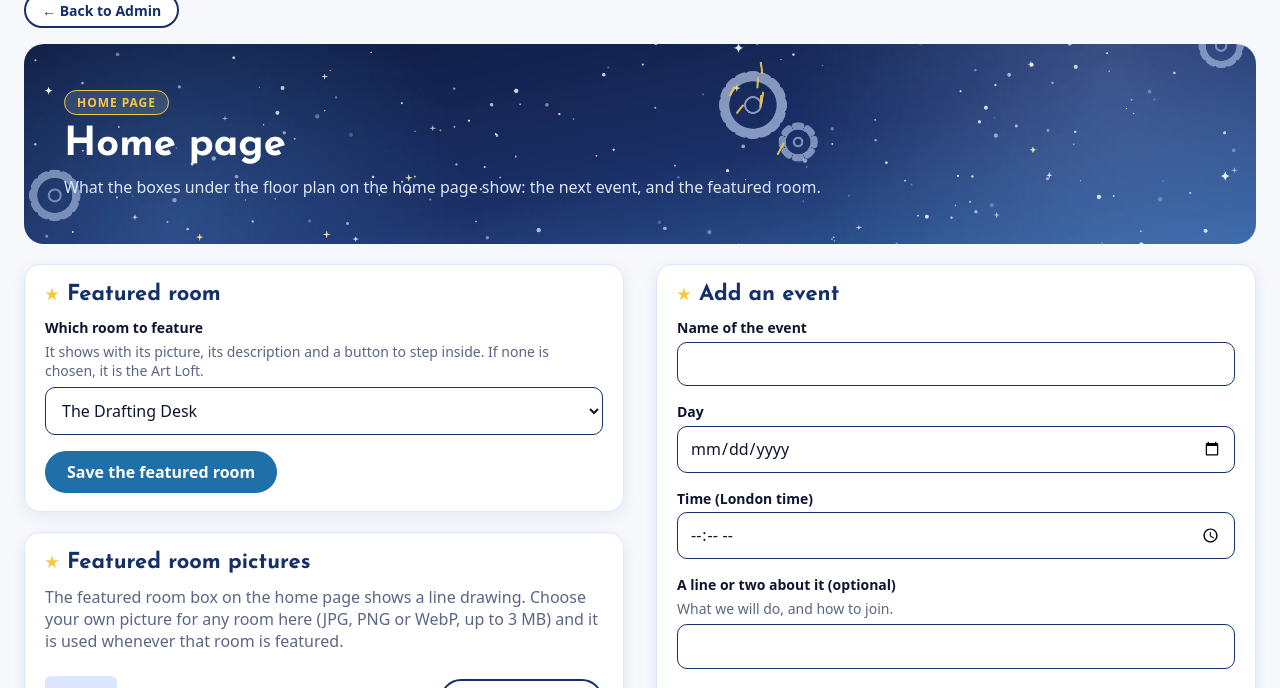
says plainly when the database refuses, and does not say it worked
In the field labelled "Name of the event": (956, 364) [677,342,1235,386], type "A"
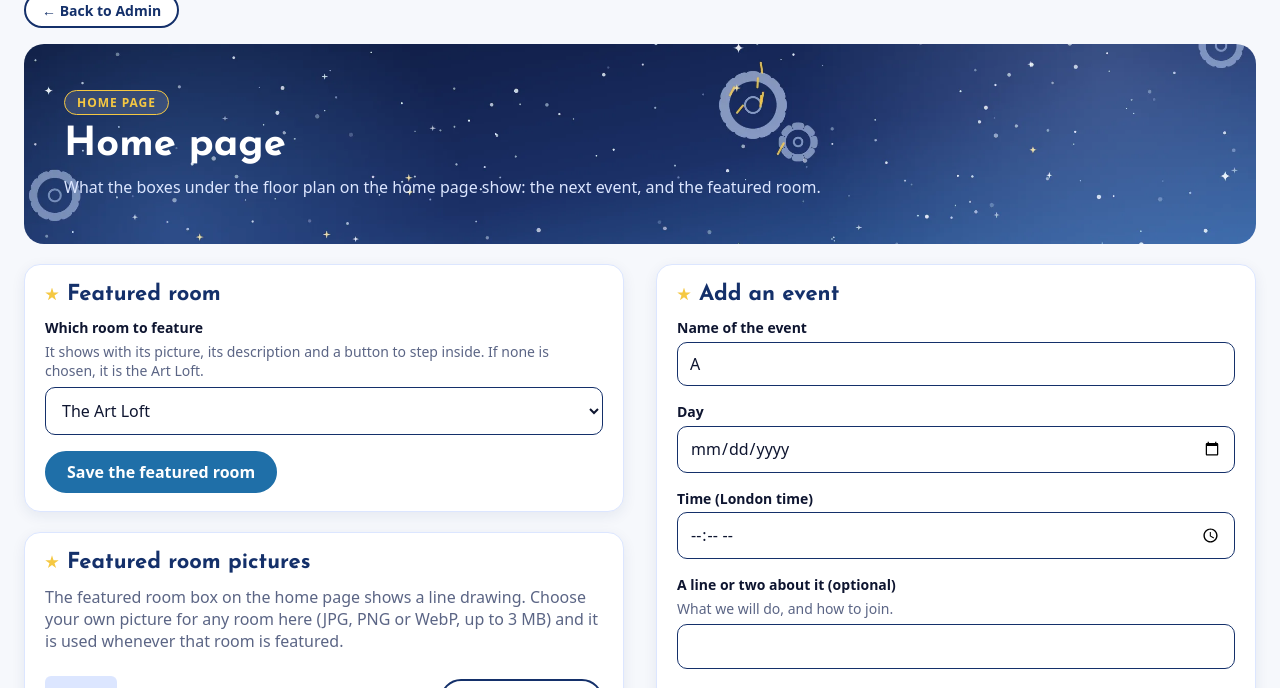
In the date field labelled "Day": (956, 449) [677,426,1235,473], type "2026-12-05"
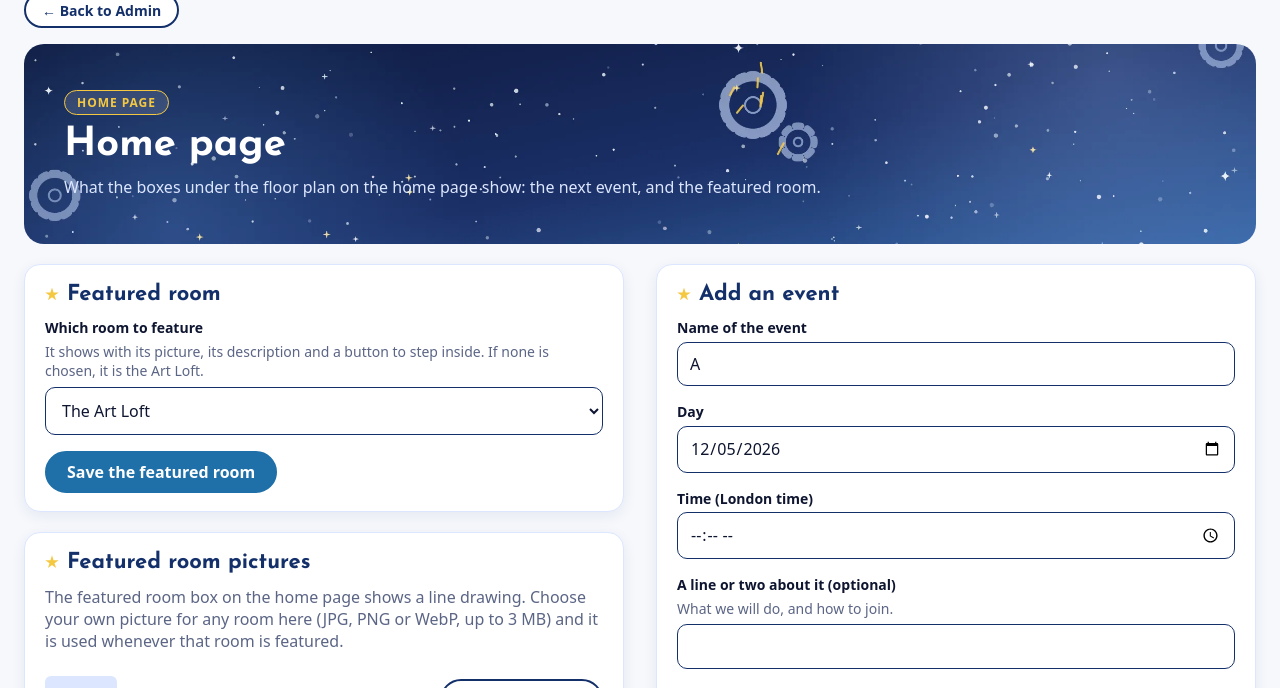
In the time field labelled "Time (London time)": (956, 536) [677,512,1235,559], type "19:00"
(page scrolled)
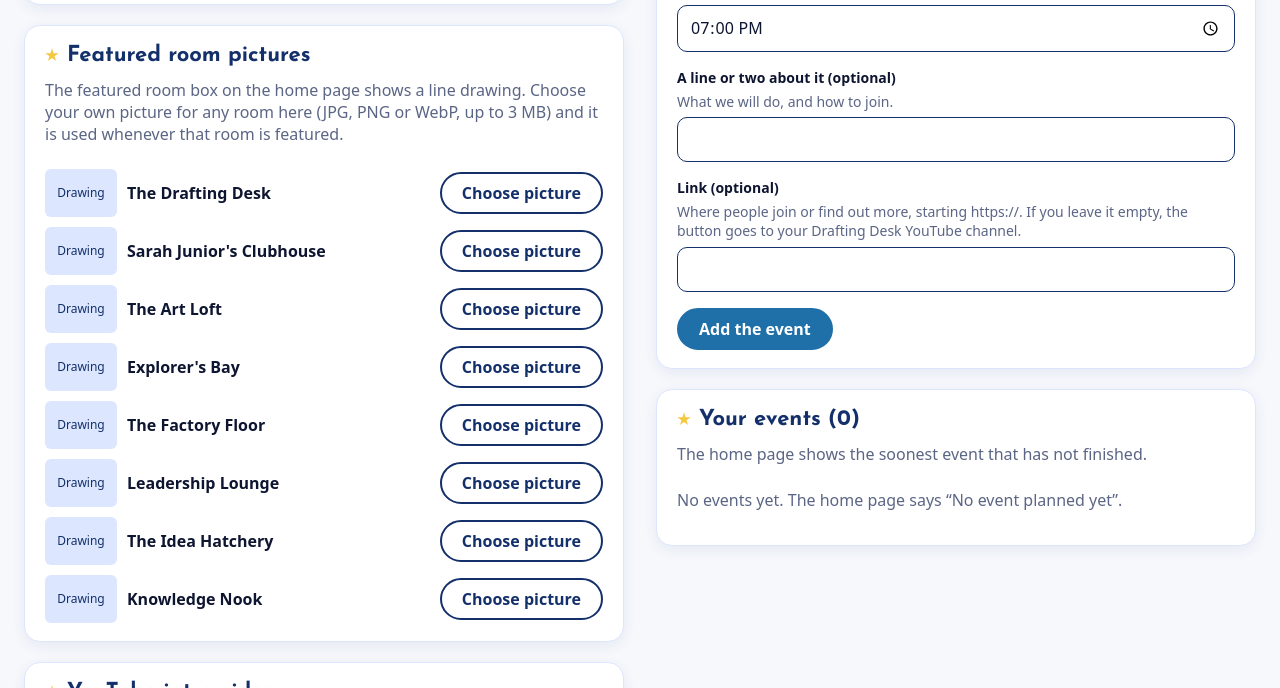
Click the button "Add the event": (755, 329) [677,308,833,350]
(page scrolled)
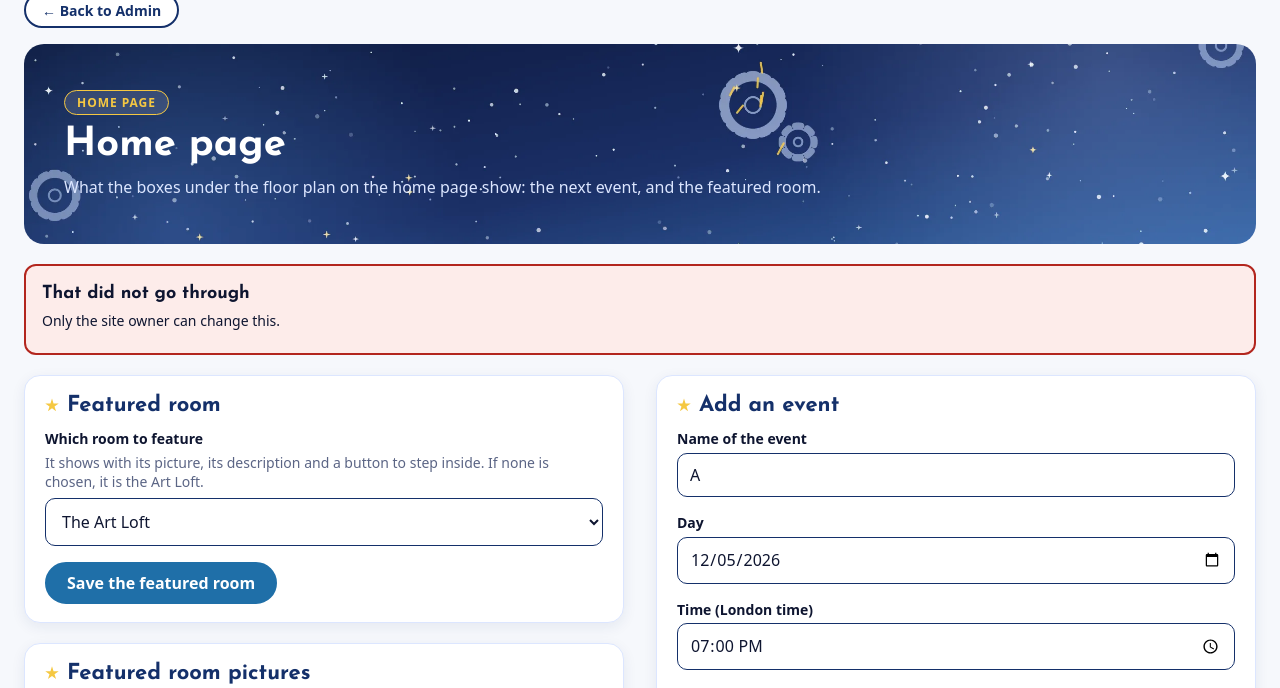
expect the text "Only the site owner can change this." is shown: met, box [42,311,280,330]
